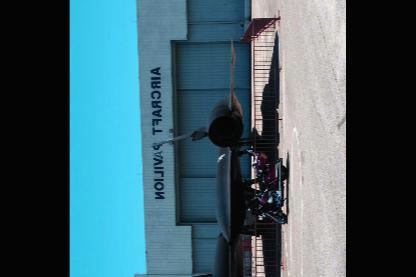Rafale: (149, 33, 270, 276)
